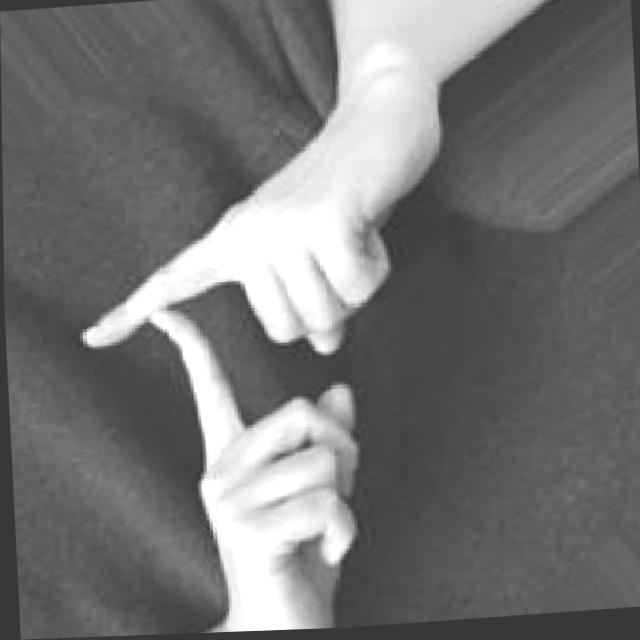T: (60, 79, 472, 638)
